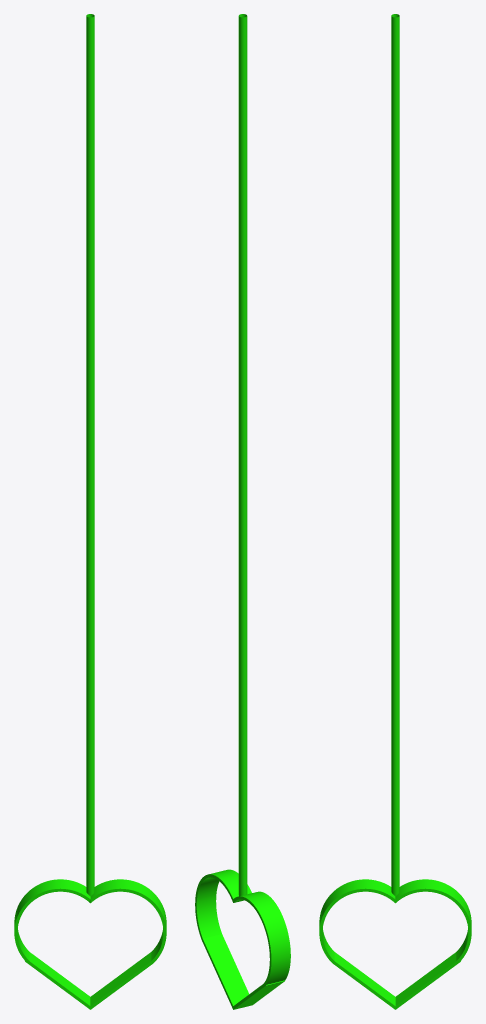
The model's file is cutter3_heart.fbx.
3 renders of one model, left to right at view 1: azimuth 90°, elevation 25°; view 2: azimuth 210°, elevation 25°; view 3: azimuth 270°, elevation 25°, orthographic.
Parts seen in each view (by area): view 1: Cutter3_Heart; view 2: Cutter3_Heart; view 3: Cutter3_Heart.
Part boxes in pixels (left/top/right/bottom): Cutter3_Heart: left=14, top=14, right=166, bottom=1009; Cutter3_Heart: left=195, top=14, right=290, bottom=1009; Cutter3_Heart: left=319, top=14, right=471, bottom=1009.
Bounding box in the file's own units: 16.8 × 820 × 114.
